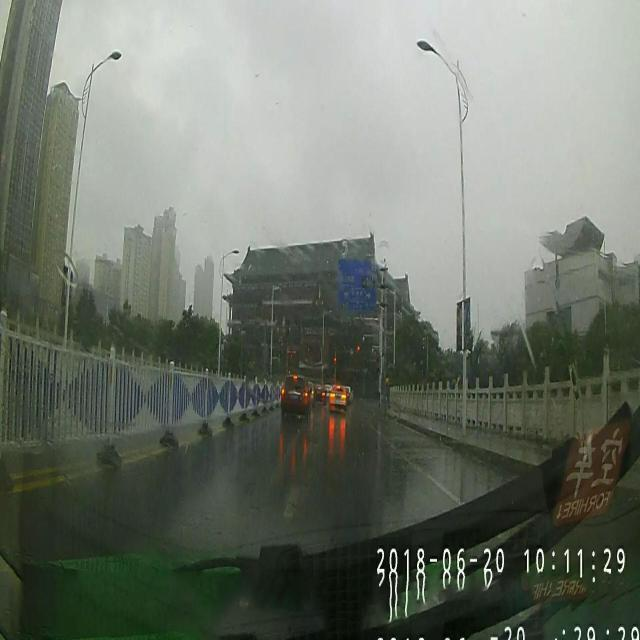car: (279, 372, 311, 424), (328, 382, 348, 414), (314, 379, 326, 406), (306, 378, 316, 404)
